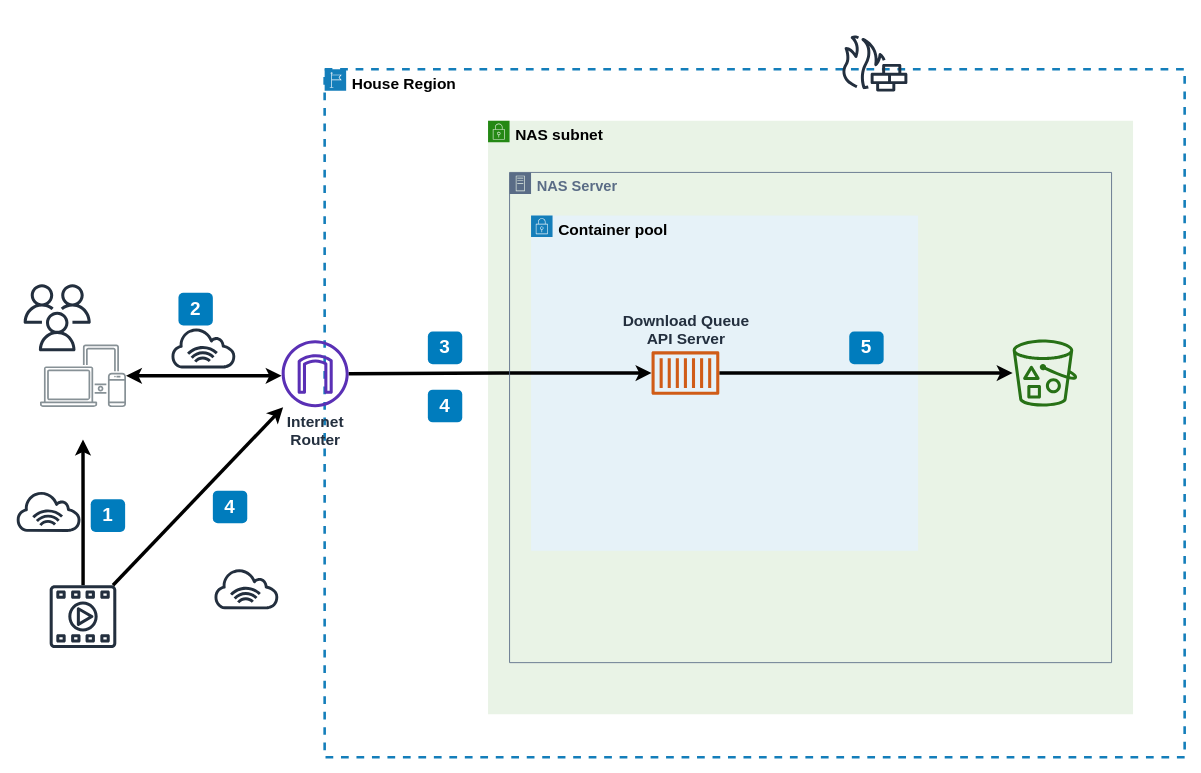
This 1201x773 diagram has some shape labels left out. Each missing label, with the centre of its shape:
"External Users" belongs at [83,375].
"Generic Firewall" belongs at [873,62].
"Media Stream Data" belongs at [82,616].
"NAS Storage Volume" belongs at [1044,372].
